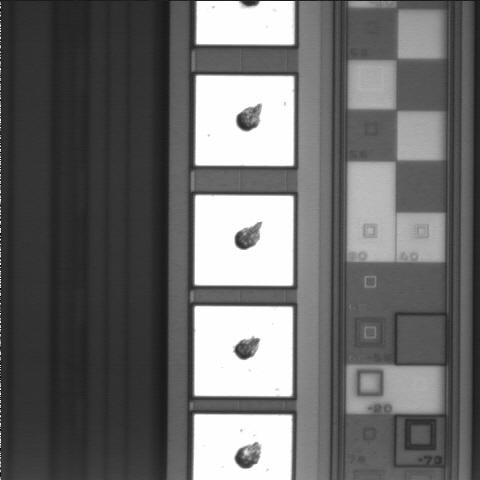pad: (195, 195, 293, 286), (195, 76, 294, 166), (194, 306, 293, 396)
